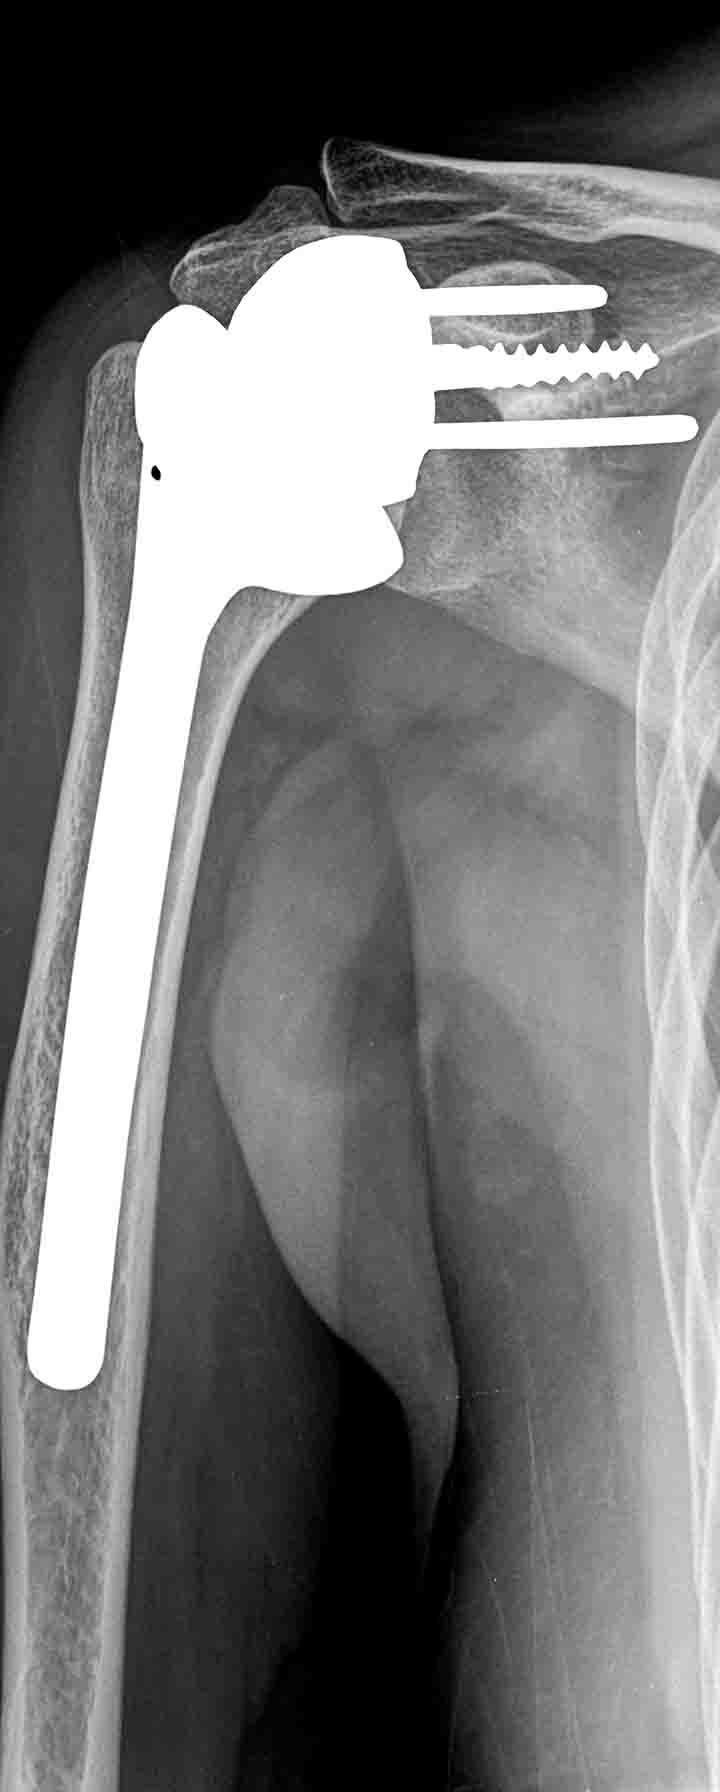Shoulder-Reverse-DJO: (18, 229, 711, 1419)
